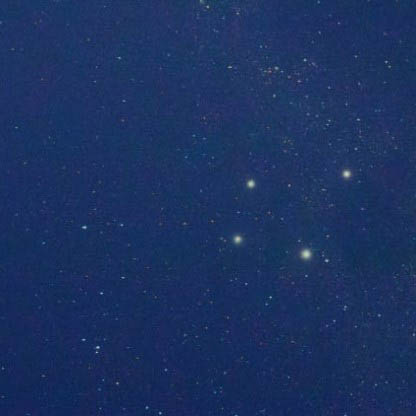Southern Cross: (335, 163, 365, 190), (225, 225, 244, 256), (293, 242, 315, 268), (241, 170, 261, 196)
